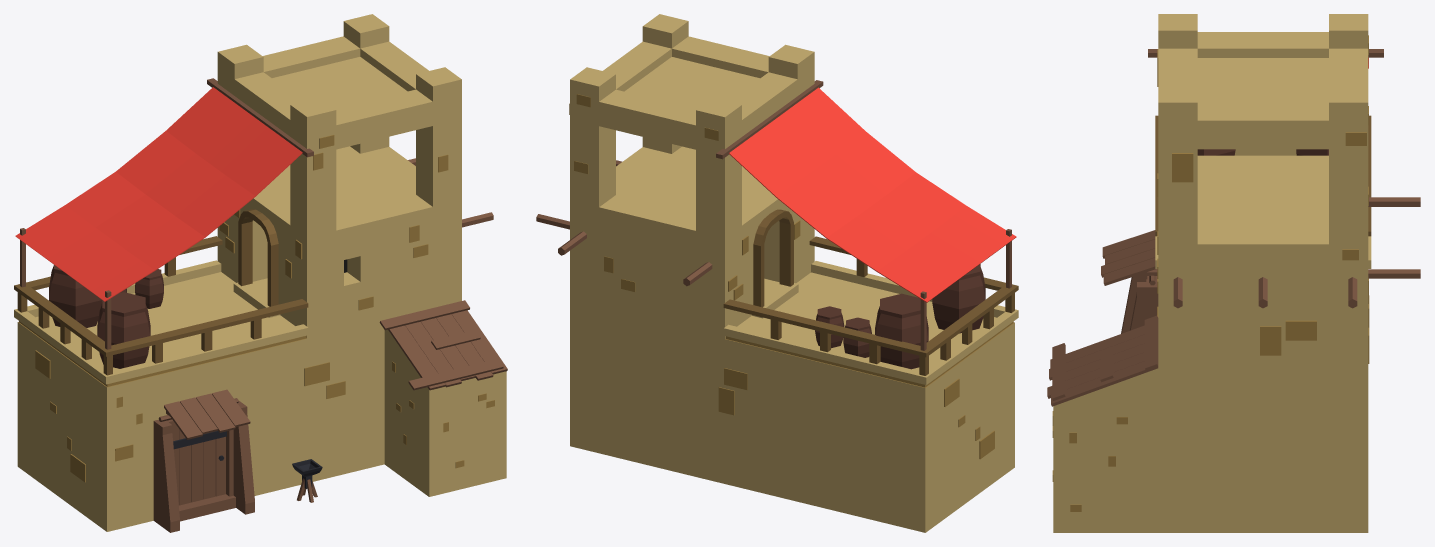
The model's file is House-Fire.fbx.
The picture shows the model from 3 angles, left to right: view 1: azimuth 30°, elevation 25°; view 2: azimuth 150°, elevation 25°; view 3: azimuth 270°, elevation 25°; orthographic projection. The views are drawn at different scales.
Visible parts, largest first — view 1: Box001; view 2: Box001; view 3: Box001.
Part boxes in pixels (<box>): Box001: <box>14,14,507,532</box>; Box001: <box>536,14,1018,532</box>; Box001: <box>1047,14,1420,532</box>.
Bounding box in the file's own units: 7.67 × 6.78 × 5.33.
